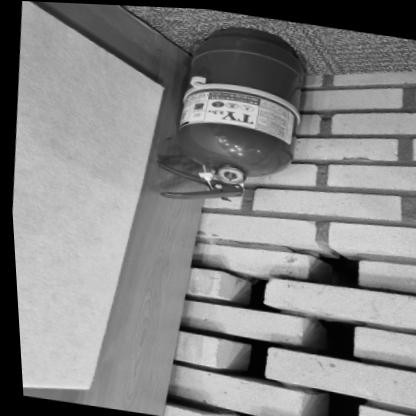FE: (147, 12, 306, 214)
